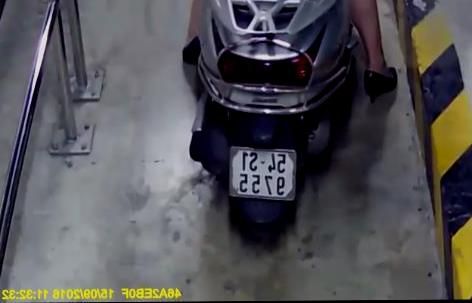License_Plate: (217, 140, 306, 199)
